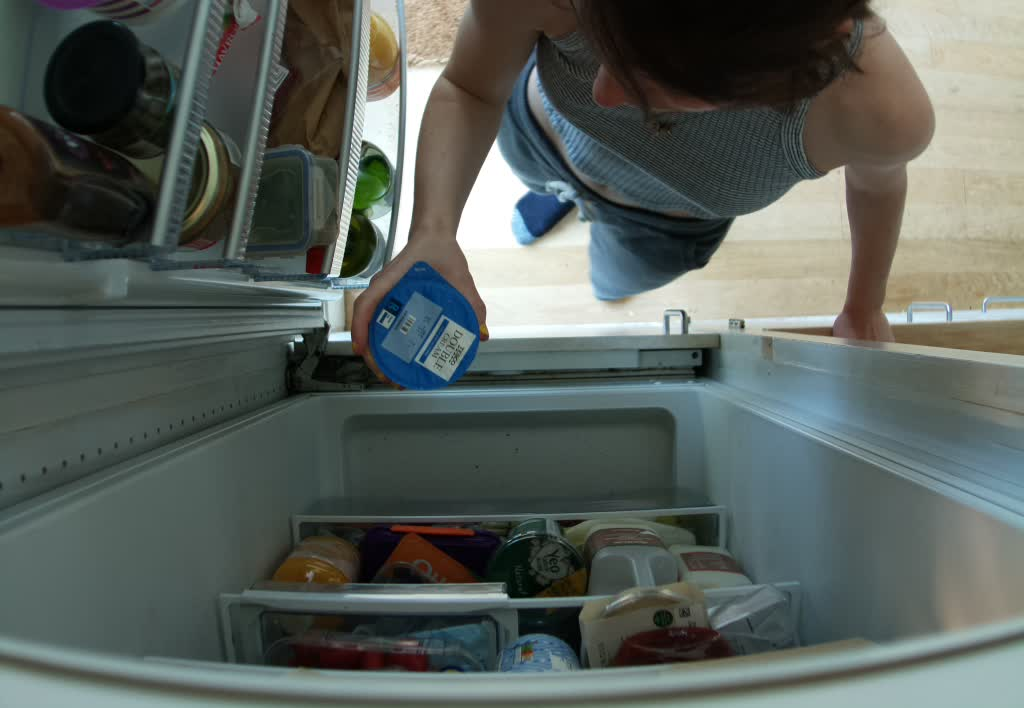cream: (363, 261, 484, 394)
